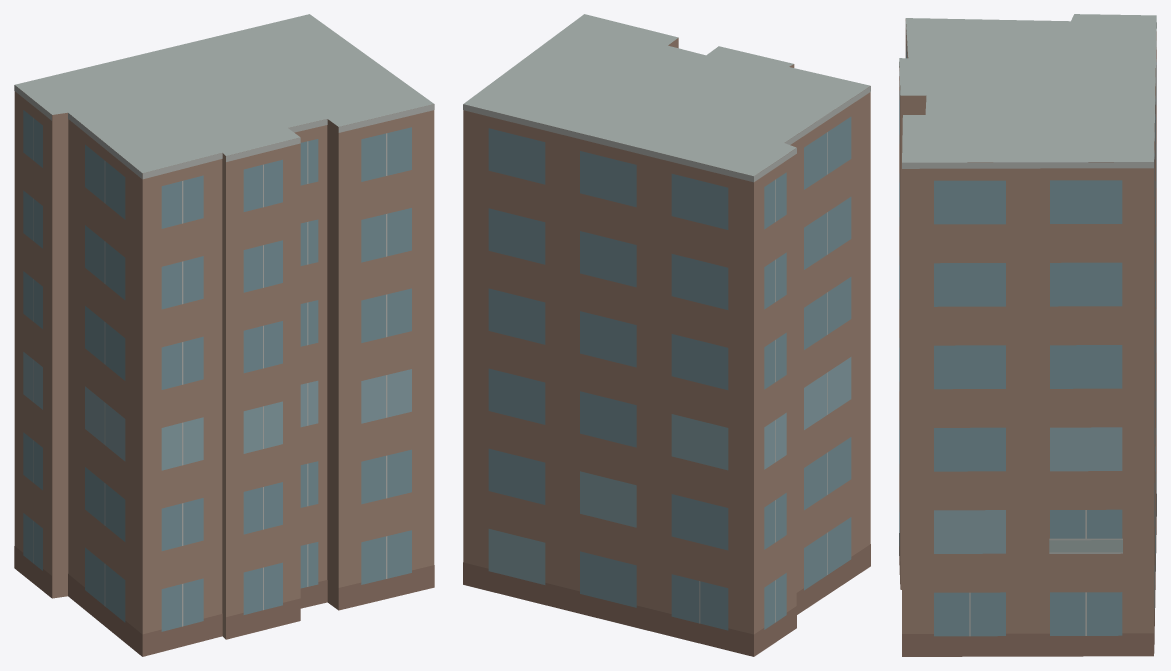
Rendered from survey-upis-32747320.glb.
3 renders of one model, left to right at view 1: azimuth 30°, elevation 25°; view 2: azimuth 150°, elevation 25°; view 3: azimuth 270°, elevation 25°, orthographic. The views are drawn at different scales.
Visible parts, largest first — view 1: survey-upis-32747320.tmp; view 2: survey-upis-32747320.tmp; view 3: survey-upis-32747320.tmp.
Boxes of the visible parts, x1,y1,x2,y2 form: survey-upis-32747320.tmp: (14,14,434,656); survey-upis-32747320.tmp: (463,14,870,656); survey-upis-32747320.tmp: (899,14,1156,656).
Bounding box in the file's own units: 12.49 × 19.35 × 9.15.
